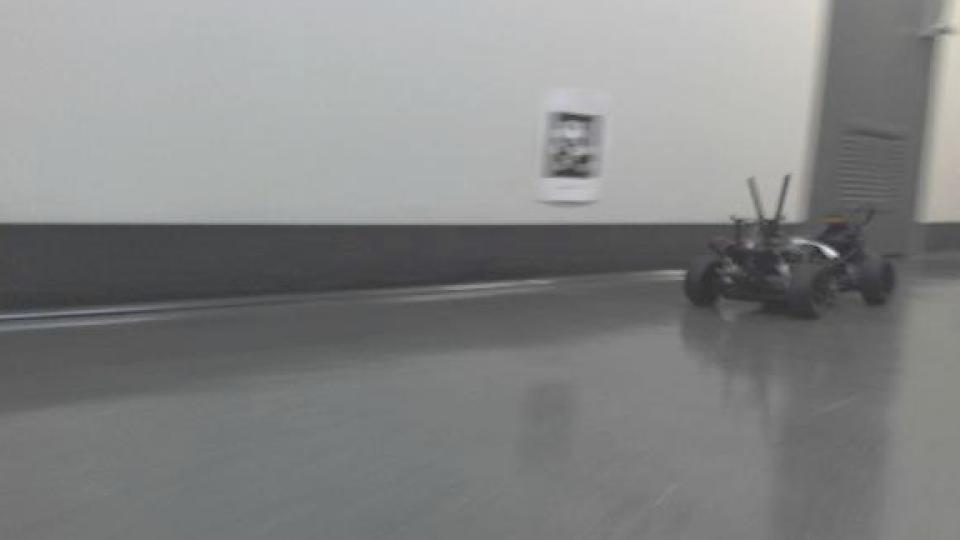car: (682, 170, 902, 323)
